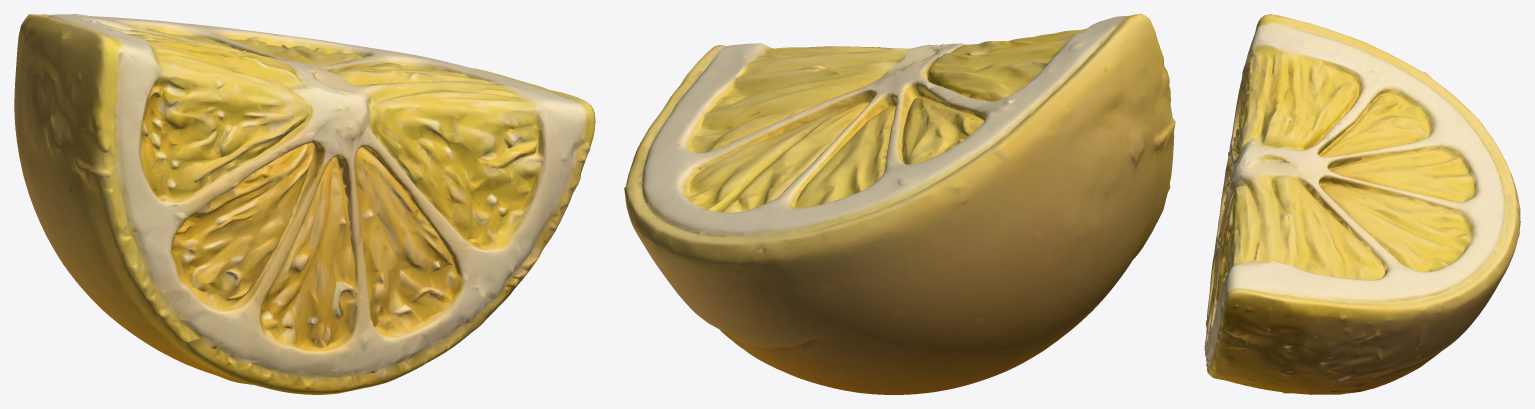
The model's file is lemon.glb.
3 views of the same model, side by side, from view 1: azimuth 30°, elevation 25°; view 2: azimuth 150°, elevation 25°; view 3: azimuth 270°, elevation 25° (orthographic). The views are drawn at different scales.
Visible parts, largest first — view 1: geometry_0; view 2: geometry_0; view 3: geometry_0.
Boxes of the visible parts, left/top/right/bottom form: geometry_0: left=14, top=14, right=595, bottom=394; geometry_0: left=624, top=14, right=1175, bottom=394; geometry_0: left=1204, top=14, right=1520, bottom=394.
Size of the model in its own units: 0.9809 by 0.7553 by 0.7626.
Materials: 1 (1 with a texture image).
